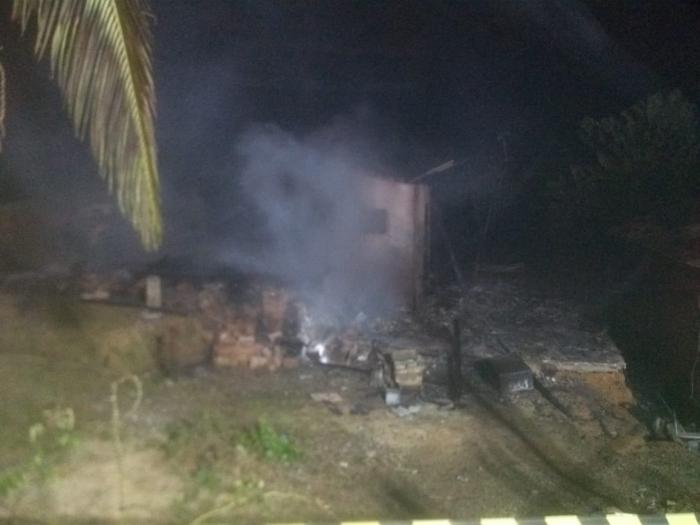smoke: (283, 190, 387, 309)
